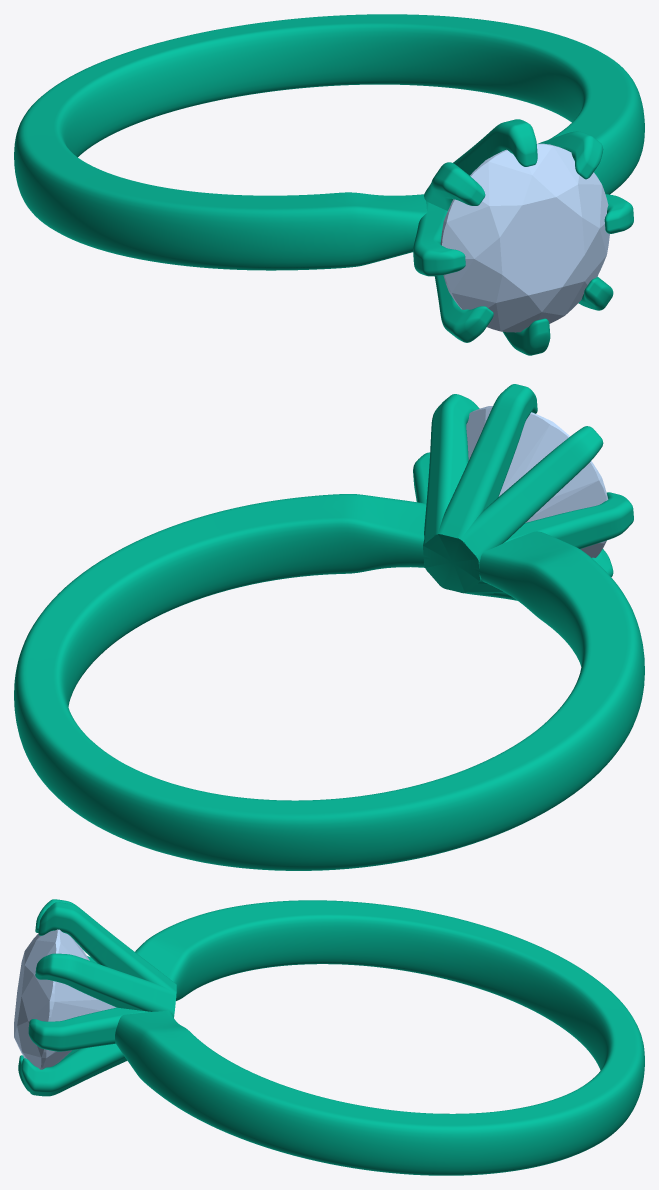
3 renders of one model, top to bottom at view 1: azimuth 30°, elevation 25°; view 2: azimuth 150°, elevation 25°; view 3: azimuth 270°, elevation 25°, orthographic. The views are drawn at different scales.
Parts seen in each view (by area): view 1: JTC 7228(base).3dm, Diamond_Round; view 2: JTC 7228(base).3dm, Diamond_Round; view 3: JTC 7228(base).3dm, Diamond_Round.
Part boxes in pixels (<box>): JTC 7228(base).3dm: <box>14,14,644,355</box>; Diamond_Round: <box>440,143,609,332</box>; JTC 7228(base).3dm: <box>14,384,644,870</box>; Diamond_Round: <box>466,406,608,557</box>; JTC 7228(base).3dm: <box>18,899,644,1175</box>; Diamond_Round: <box>14,929,116,1069</box>.
Size of the model in its own units: 2.51 by 0.9765 by 2.96.
